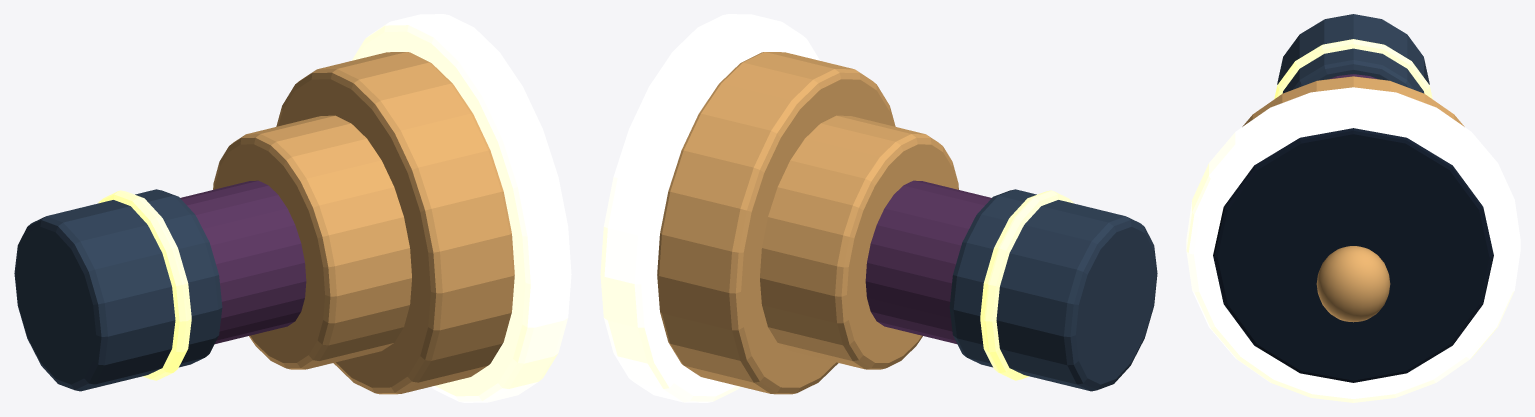
Rendered from echo_bell.glb.
3 views of the same model, side by side, from view 1: azimuth 30°, elevation 25°; view 2: azimuth 150°, elevation 25°; view 3: azimuth 270°, elevation 25° (orthographic). The views are drawn at different scales.
Parts seen in each view (by area): view 1: ModuleArmor; view 2: ModuleArmor; view 3: ModuleArmor.
Boxes of the visible parts, x1,y1,x2,y2 form: ModuleArmor: (14, 14, 571, 402); ModuleArmor: (600, 14, 1157, 402); ModuleArmor: (1186, 14, 1520, 402).
Bounding box in the file's own units: 0.945 × 0.68 × 0.68.
